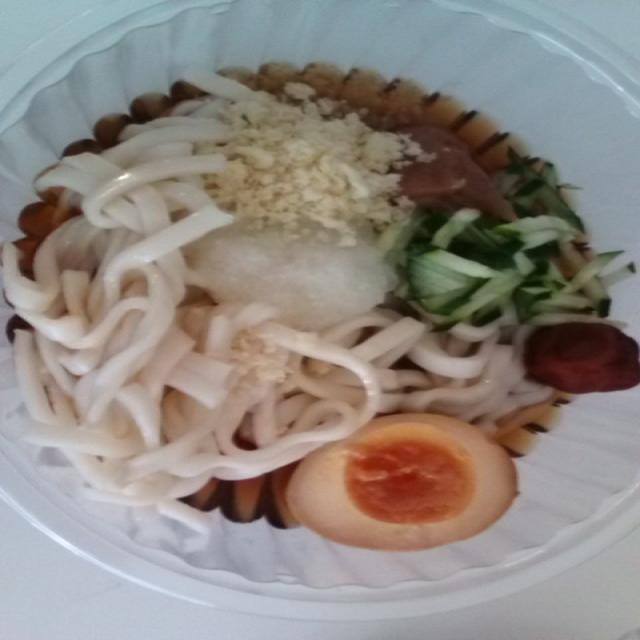面条主食: (0, 36, 619, 576)
